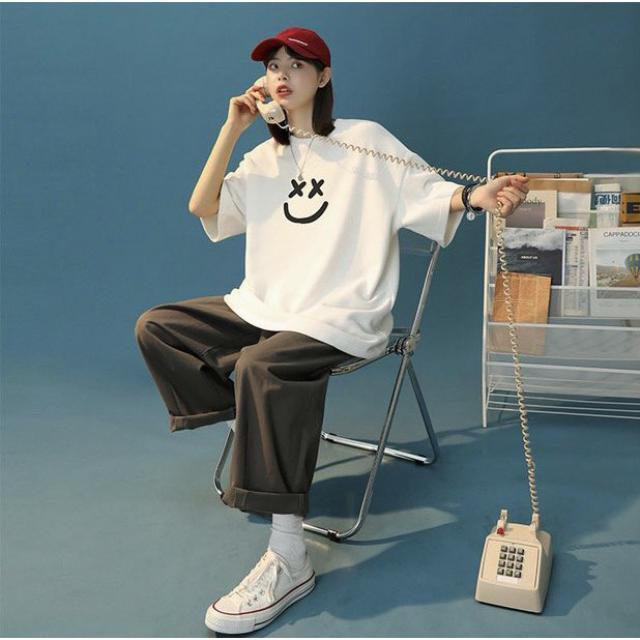Shirt: (202, 112, 466, 356)
